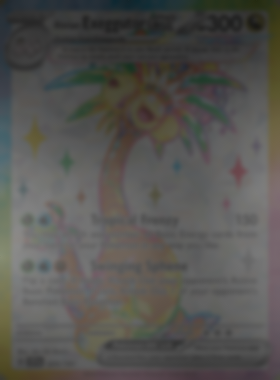Alolan_Exeggutor_ex: (0, 0, 280, 380)
